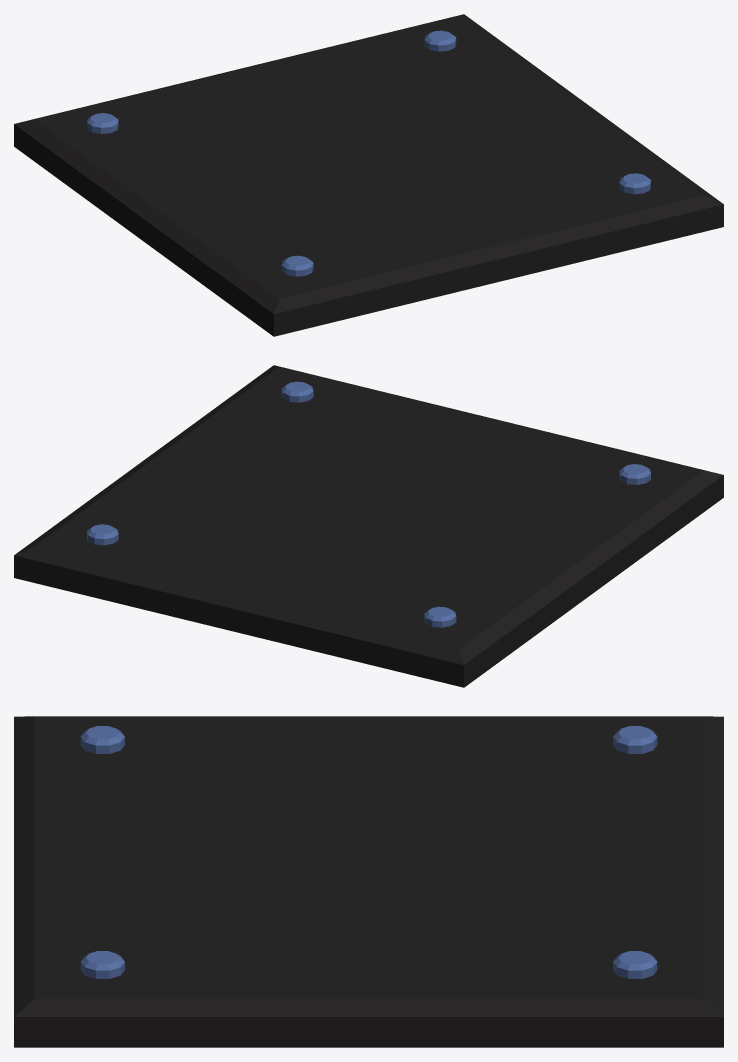
The model's file is generator1.glb.
3 renders of one model, top to bottom at view 1: azimuth 30°, elevation 25°; view 2: azimuth 150°, elevation 25°; view 3: azimuth 270°, elevation 25°, orthographic. The views are drawn at different scales.
Visible parts, largest first — view 1: Cube.002, Cylinder, Cylinder.003, Cylinder.001, Cylinder.002; view 2: Cube.002, Cylinder.002, Cylinder.001, Cylinder, Cylinder.003; view 3: Cube.002, Cylinder.001, Cylinder.003, Cylinder, Cylinder.002.
Part boxes in pixels (box(x1,y1,x2,y2)): Cube.002: box(14, 14, 723, 336); Cylinder: box(424, 30, 456, 51); Cylinder.003: box(281, 255, 313, 276); Cylinder.001: box(87, 113, 118, 133); Cylinder.002: box(619, 173, 650, 194); Cube.002: box(14, 365, 723, 687); Cylinder.002: box(281, 381, 313, 402); Cylinder.001: box(424, 606, 456, 627); Cylinder: box(87, 524, 118, 545); Cylinder.003: box(619, 464, 650, 484); Cube.002: box(14, 716, 723, 1047); Cylinder.001: box(613, 726, 657, 753); Cylinder.003: box(80, 726, 124, 753); Cylinder: box(613, 951, 657, 978); Cylinder.002: box(80, 951, 124, 978).
Size of the model in its own units: 1.6 by 0.1907 by 1.6.
